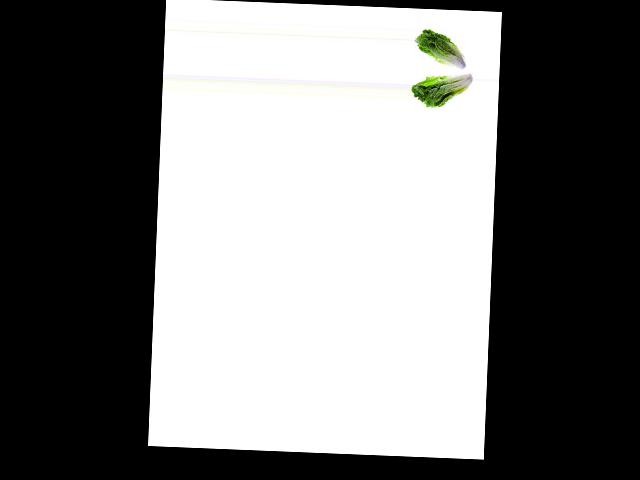lettuce: (414, 27, 473, 69)
